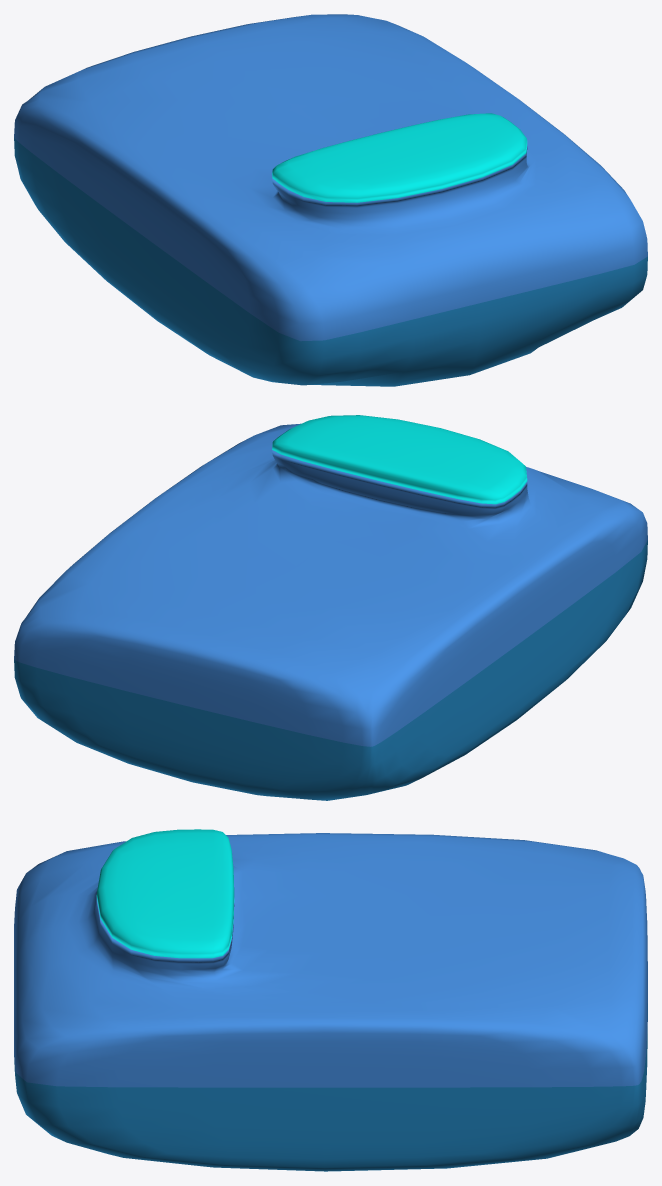
Rendered from medbayBed.fbx.
3 renders of one model, top to bottom at view 1: azimuth 30°, elevation 25°; view 2: azimuth 150°, elevation 25°; view 3: azimuth 270°, elevation 25°, orthographic. The views are drawn at different scales.
Visible parts, largest first — view 1: Bed; view 2: Bed; view 3: Bed.
Boxes of the visible parts, box(x1,y1,x2,y2) form: Bed: box(14, 14, 647, 386); Bed: box(14, 415, 647, 800); Bed: box(14, 829, 647, 1171).
Size of the model in its own units: 576 by 279 by 792.
